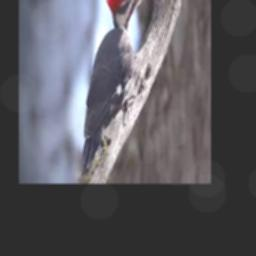Woodpecker: (82, 0, 151, 173)
